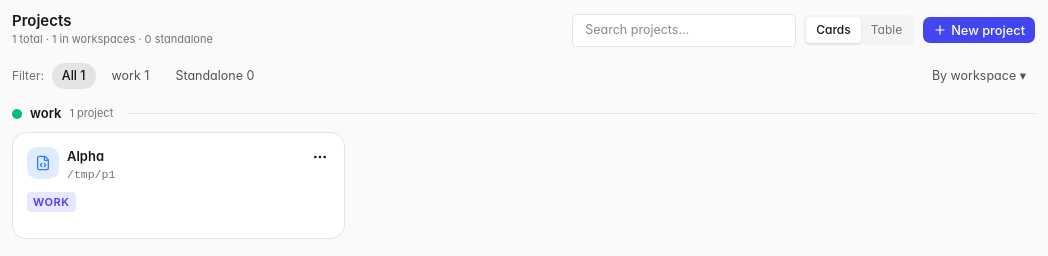
ProjectsPage / view toggle › switching to Table renders the projects-table primitive
Expected: the element with test id "projects-cards-layout" is shown, [12, 105, 345, 239]
// Click Table.
Click the radio button labelled "Table" at coordinates (886, 30), box [861, 17, 912, 43]
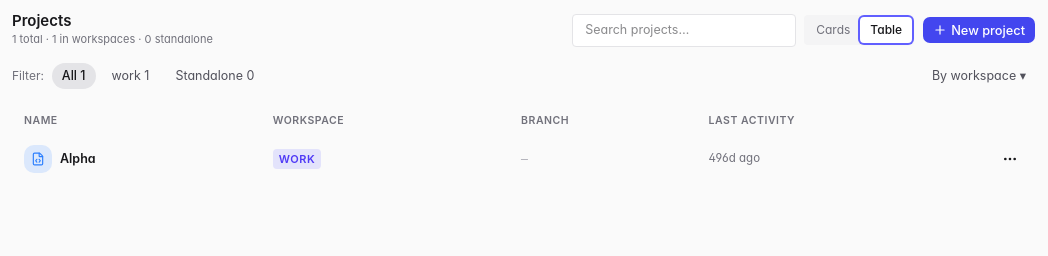
Now the element with test id "projects-cards-layout" is gone
Now the table with test id "projects-table" is shown, box [12, 105, 1036, 181]
